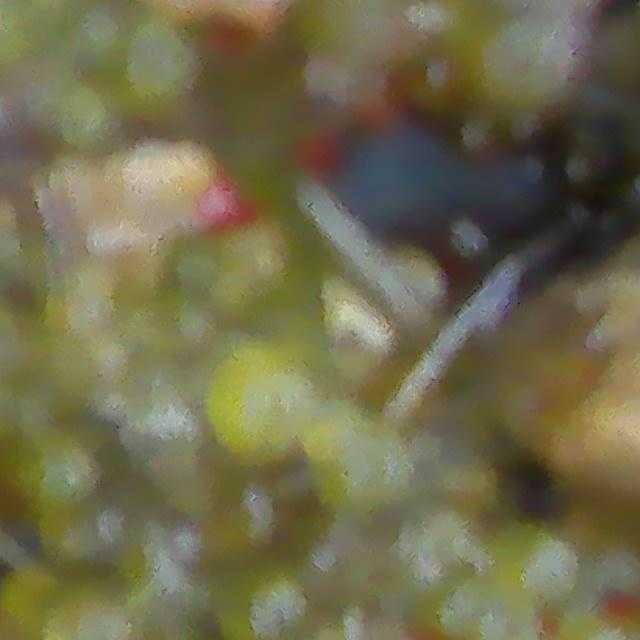SeaGrape: (196, 329, 328, 454), (304, 421, 415, 517), (16, 422, 105, 519), (58, 0, 142, 85), (205, 575, 305, 640)
